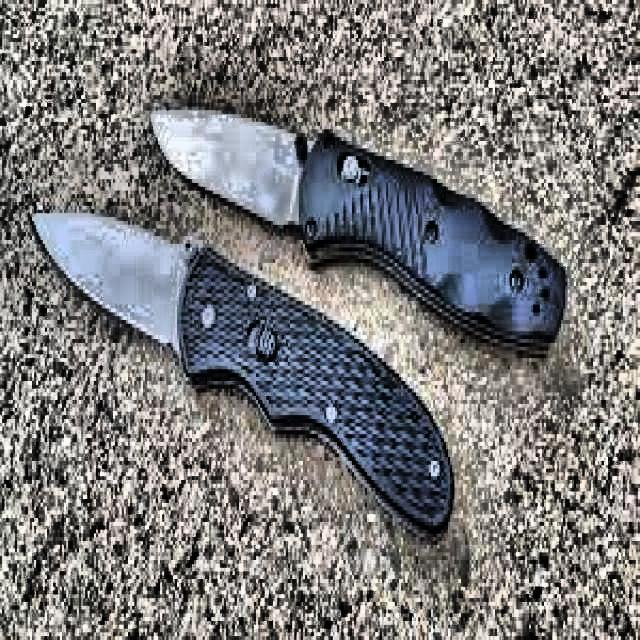knife: (22, 205, 465, 538), (153, 95, 576, 383)
